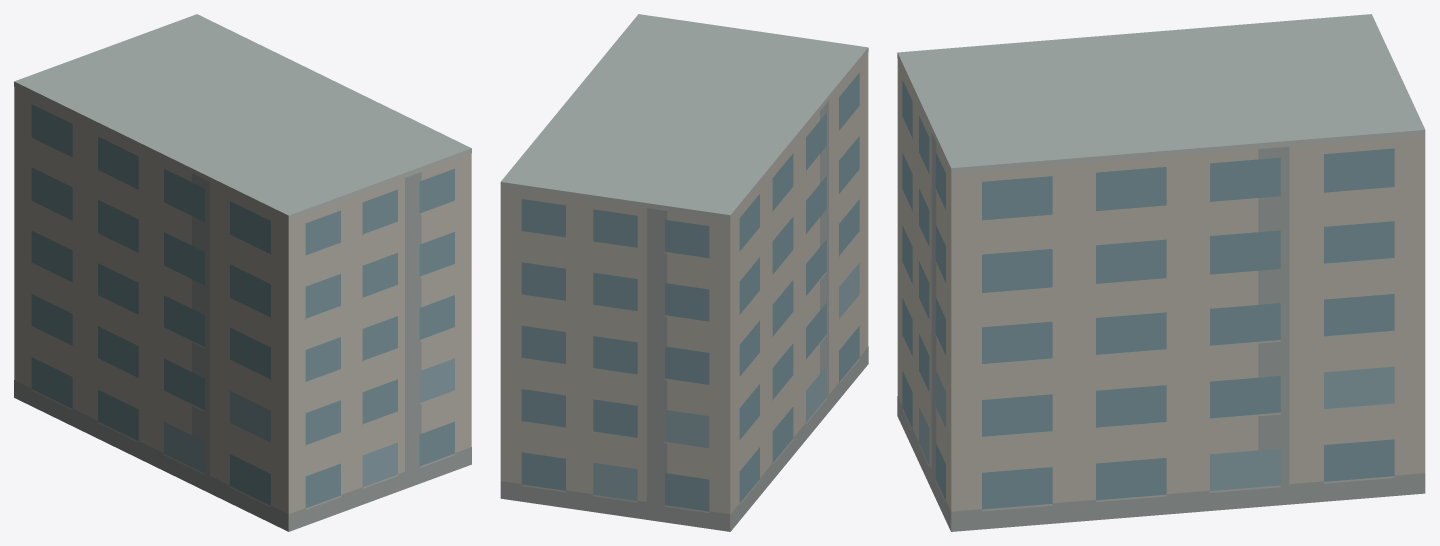
File: residential-a561d3e8-0fca-4f46-a346-047e37c0c8af.glb
3 views of the same model, side by side, from view 1: azimuth 30°, elevation 25°; view 2: azimuth 150°, elevation 25°; view 3: azimuth 270°, elevation 25° (orthographic). The views are drawn at different scales.
Visible parts, largest first — view 1: residential-a561d3e8-0fca-4f46-a346-047e37c0c8af.tmp; view 2: residential-a561d3e8-0fca-4f46-a346-047e37c0c8af.tmp; view 3: residential-a561d3e8-0fca-4f46-a346-047e37c0c8af.tmp.
Part boxes in pixels (x1,y1,x2,y2): residential-a561d3e8-0fca-4f46-a346-047e37c0c8af.tmp: [14, 14, 471, 531]; residential-a561d3e8-0fca-4f46-a346-047e37c0c8af.tmp: [500, 14, 868, 531]; residential-a561d3e8-0fca-4f46-a346-047e37c0c8af.tmp: [897, 14, 1425, 531].
Bounding box in the file's own units: 13.88 × 15.25 × 20.07.
